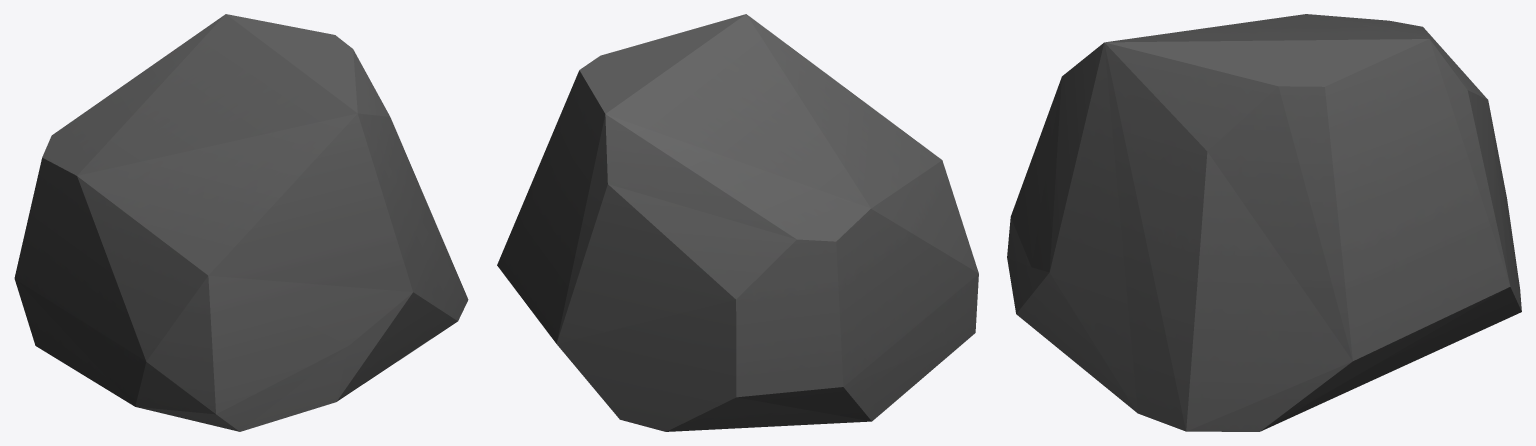
Rendered from Jungle_Rock_Med_A.fbx.
3 renders of one model, left to right at view 1: azimuth 30°, elevation 25°; view 2: azimuth 150°, elevation 25°; view 3: azimuth 270°, elevation 25°, orthographic. The views are drawn at different scales.
Parts seen in each view (by area): view 1: Jungle_Rock_Med_A; view 2: Jungle_Rock_Med_A; view 3: Jungle_Rock_Med_A.
Boxes of the visible parts, x1,y1,x2,y2 form: Jungle_Rock_Med_A: [14, 14, 468, 431]; Jungle_Rock_Med_A: [497, 14, 978, 431]; Jungle_Rock_Med_A: [1007, 14, 1521, 431].
Bounding box in the file's own units: 1.02 × 0.6849 × 1.01.
1 material, 1 textured.
